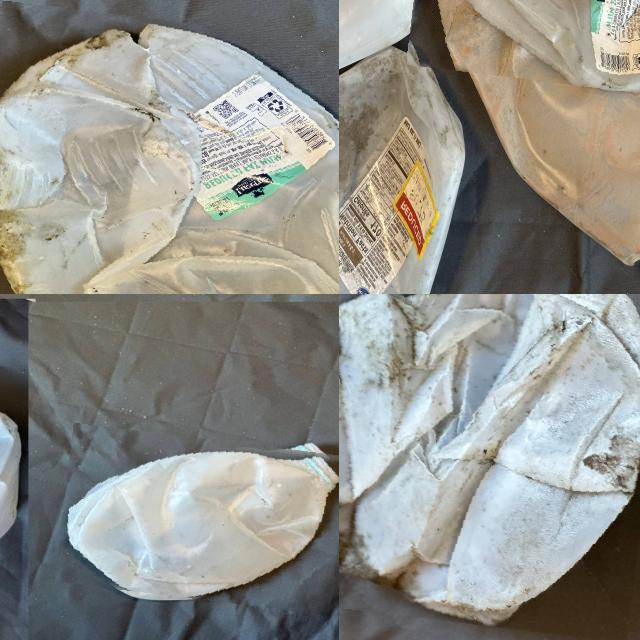milk-jug: (339, 294, 640, 632), (0, 13, 339, 294), (438, 0, 640, 268), (57, 431, 339, 607), (339, 44, 462, 294), (415, 0, 640, 96)
